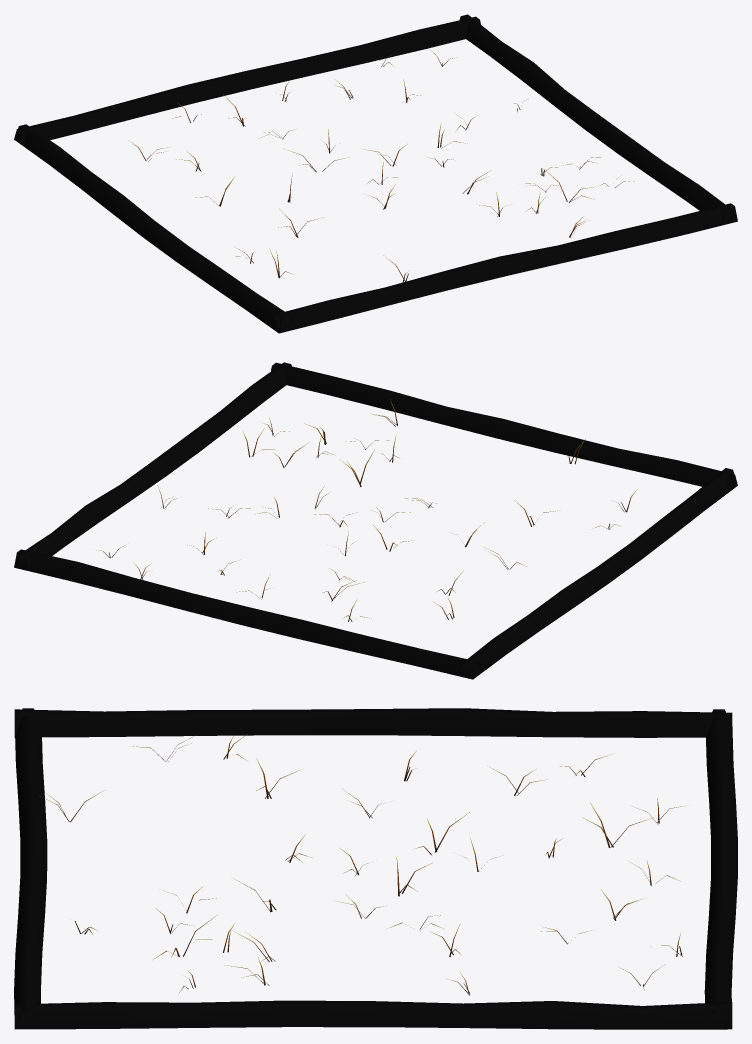
The model's file is patch_paddy_fallow_far.glb.
The picture shows the model from 3 angles, top to bottom: view 1: azimuth 30°, elevation 25°; view 2: azimuth 150°, elevation 25°; view 3: azimuth 270°, elevation 25°; orthographic projection. The views are drawn at different scales.
Parts seen in each view (by area): view 1: patch_paddy_fallow_far; view 2: patch_paddy_fallow_far; view 3: patch_paddy_fallow_far.
Boxes of the visible parts, x1,y1,x2,y2 form: patch_paddy_fallow_far: (14, 14, 737, 333); patch_paddy_fallow_far: (14, 362, 737, 679); patch_paddy_fallow_far: (14, 708, 737, 1029).
Size of the model in its own units: 12.11 by 0.6674 by 12.11.
Materials: 1 (1 with a texture image).
